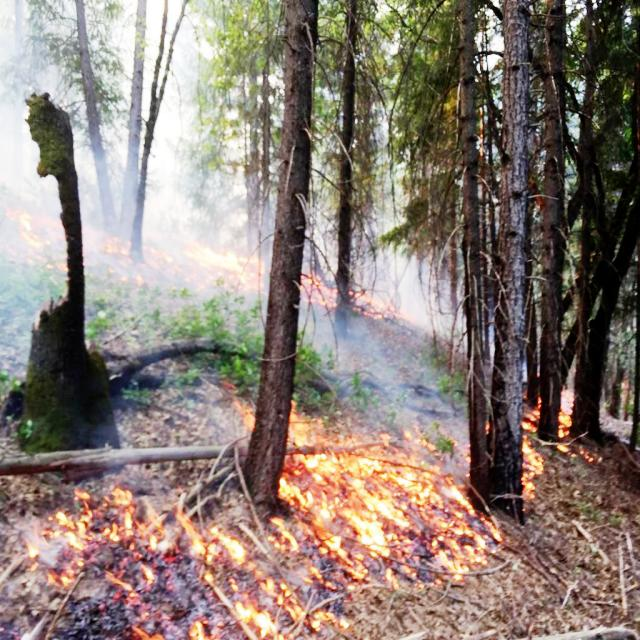api: (58, 492, 273, 640), (295, 414, 476, 573), (189, 239, 260, 288), (9, 203, 59, 271), (524, 399, 545, 506), (101, 243, 180, 271), (304, 283, 339, 303), (565, 418, 580, 448), (366, 298, 406, 309)
asap: (5, 16, 41, 141)
